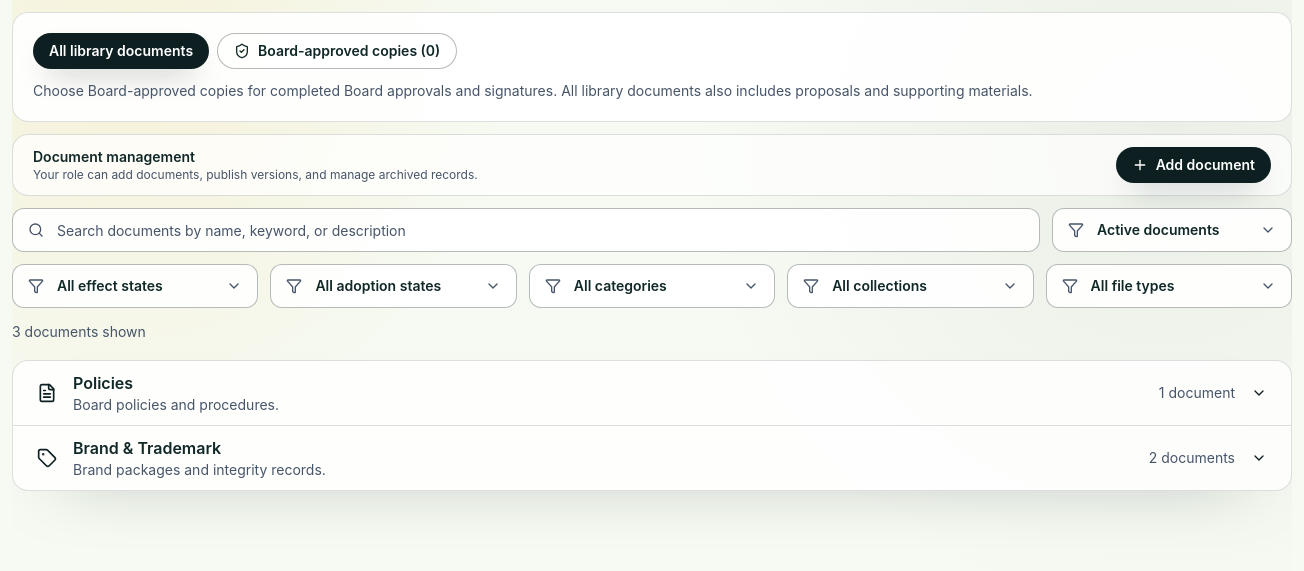
Test: DocumentLibrary › filters documents without a collection and keeps options available across status changes
Select "No collection" in the 5th dropdown named "Filter by collection" at (910, 286), box [787,264,1034,308]
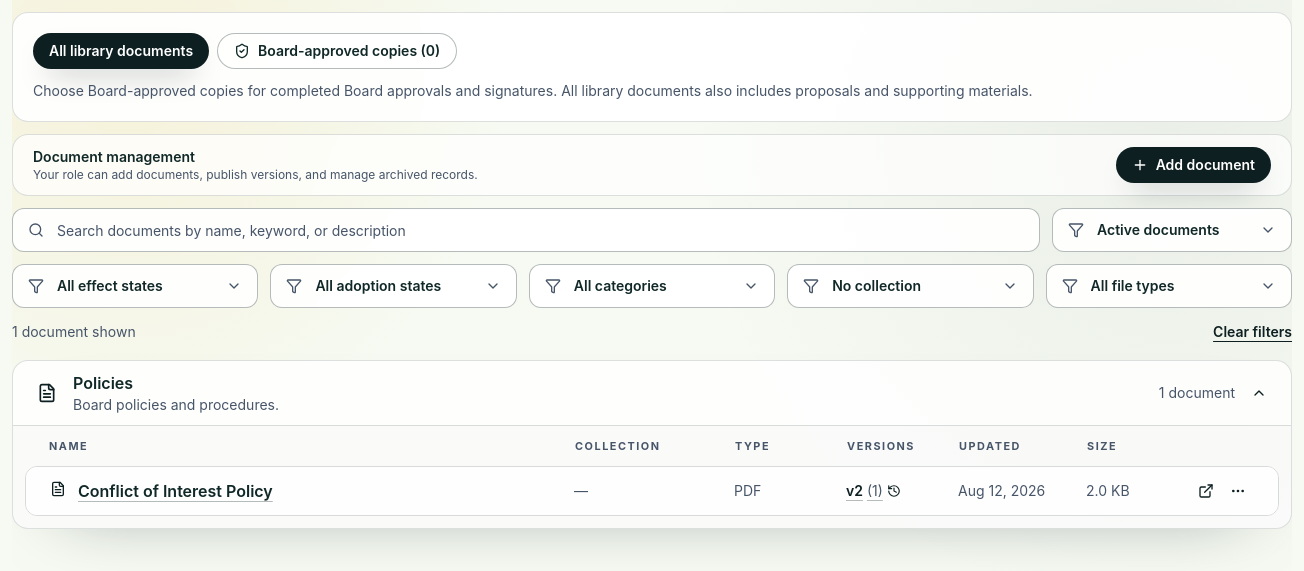
Expected: the link "Conflict of Interest Policy" is shown, [78,479,273,503]
Expected: the text "1 document shown" is shown, [12,322,136,342]
Select "Archived documents" in the 1st dropdown named "Filter by document status" at (1172, 230), box [1052,208,1292,252]
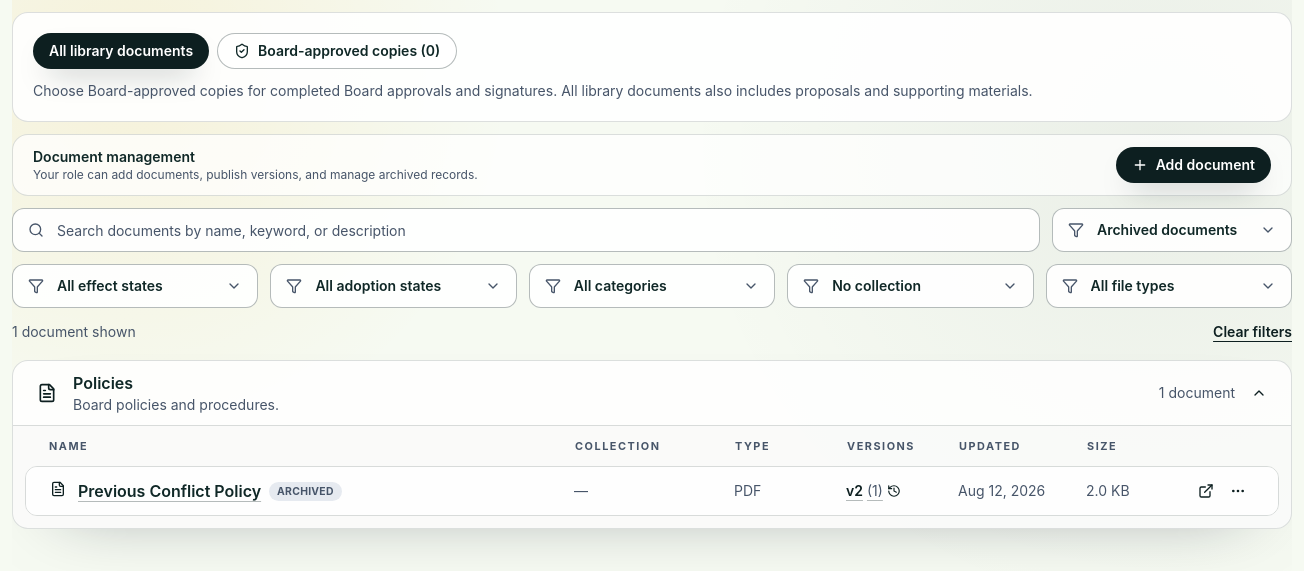
Expected: the link "Previous Conflict Policy" is shown, [78,479,261,503]
